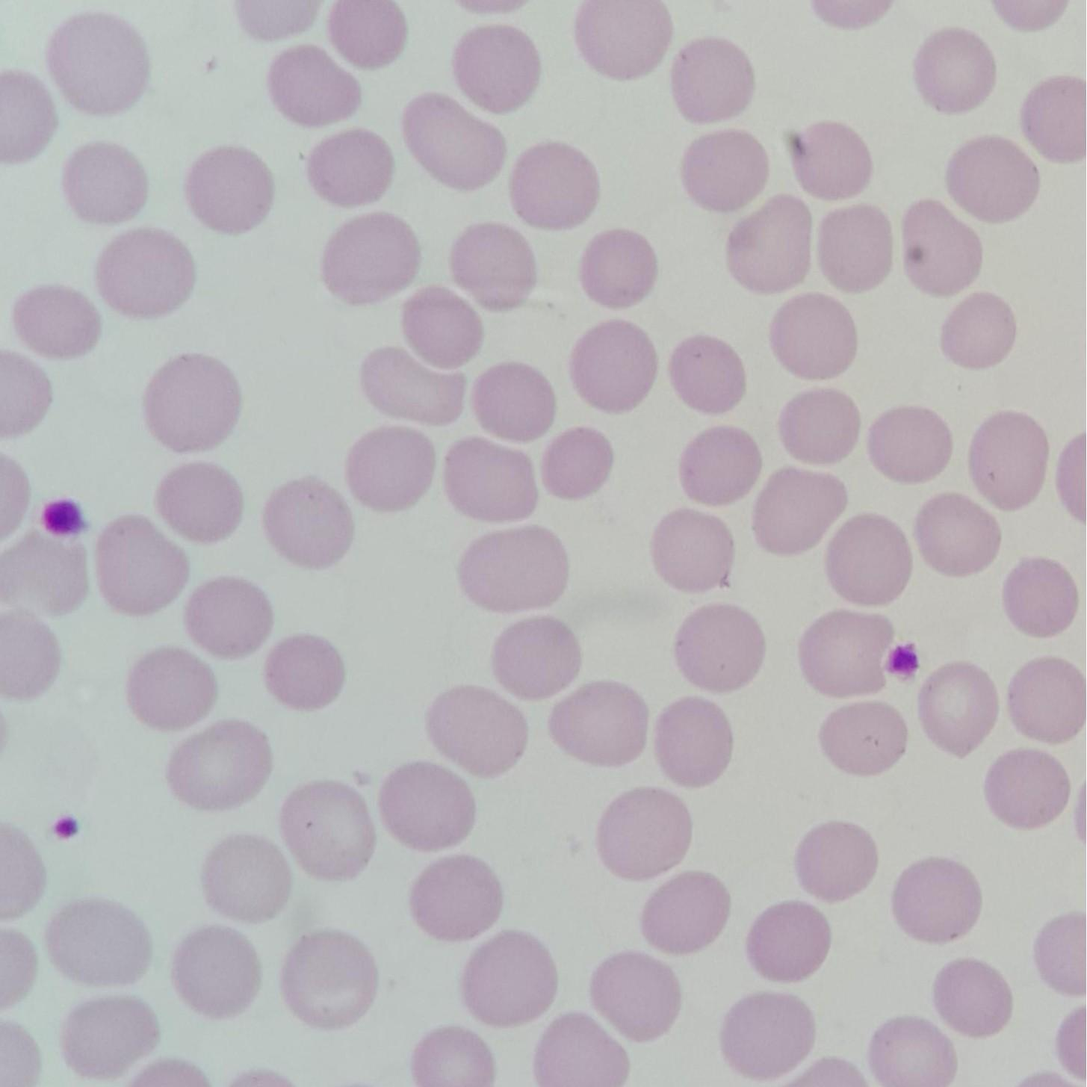Uninfected: (308, 424, 408, 529), (971, 46, 1073, 148), (57, 278, 160, 377), (895, 401, 994, 504), (471, 458, 563, 567), (99, 46, 191, 152), (58, 460, 156, 558), (276, 166, 370, 268), (634, 143, 733, 239), (205, 279, 306, 373), (387, 798, 480, 899), (781, 319, 876, 417), (319, 549, 411, 649), (6, 717, 95, 820), (206, 597, 301, 692), (43, 588, 137, 684), (235, 377, 328, 473), (470, 95, 569, 185), (392, 672, 485, 767), (768, 96, 859, 192), (792, 724, 891, 812), (520, 257, 611, 352), (143, 409, 235, 502), (672, 567, 767, 657), (529, 751, 619, 846), (69, 171, 163, 261), (564, 444, 651, 541), (658, 361, 743, 459), (8, 60, 92, 159), (971, 451, 1061, 542), (468, 3, 563, 89), (790, 899, 888, 981), (164, 201, 253, 291), (856, 510, 947, 598), (478, 826, 571, 912), (958, 267, 1041, 363), (1005, 574, 1087, 671), (577, 968, 674, 1050), (143, 893, 232, 982), (131, 637, 217, 729), (873, 680, 960, 770), (355, 124, 443, 212), (705, 769, 793, 857), (854, 184, 941, 273), (573, 344, 660, 433), (863, 948, 950, 1037), (961, 669, 1050, 755), (309, 817, 391, 910), (492, 651, 578, 739), (386, 491, 471, 580), (300, 653, 391, 736), (542, 157, 628, 244), (104, 743, 188, 832), (329, 919, 424, 997), (642, 468, 726, 555), (780, 449, 864, 536), (427, 182, 510, 270), (601, 865, 684, 953), (879, 305, 962, 393), (792, 814, 885, 892), (183, 793, 267, 879), (619, 777, 701, 864), (257, 985, 339, 1071), (510, 913, 595, 995), (341, 1005, 430, 1083), (1, 532, 73, 628), (863, 62, 945, 146), (716, 399, 799, 481), (970, 914, 1055, 994), (671, 668, 754, 749), (581, 678, 662, 761), (885, 790, 966, 873), (375, 262, 456, 344), (778, 578, 860, 659), (48, 932, 128, 1011), (0, 870, 72, 956), (728, 16, 804, 96), (1017, 327, 1087, 408), (450, 1006, 529, 1077), (718, 943, 794, 1016), (586, 541, 660, 613), (0, 409, 61, 492), (387, 1, 472, 59)
